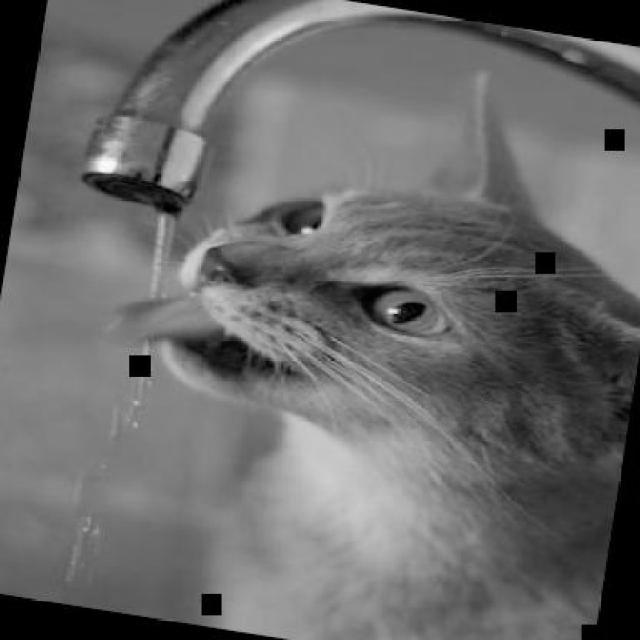Cat: (54, 14, 638, 638)
